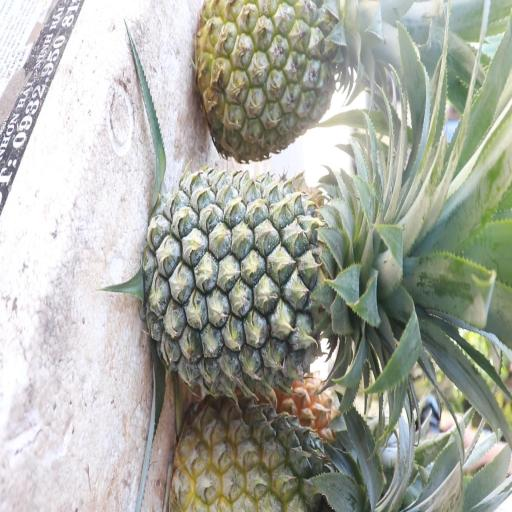------------------------------: (191, 0, 354, 159), (172, 391, 350, 512)
